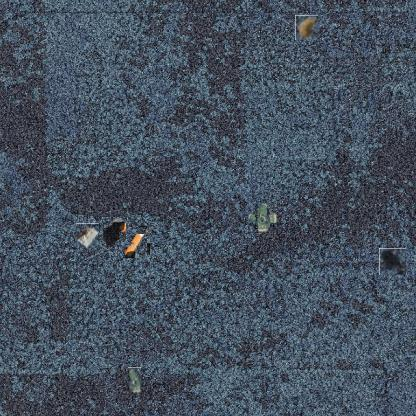dirty: (119, 228, 149, 257), (75, 223, 99, 248), (250, 206, 274, 230), (295, 15, 318, 40), (127, 367, 141, 394)
liquid: (379, 248, 406, 275), (102, 217, 126, 247)
